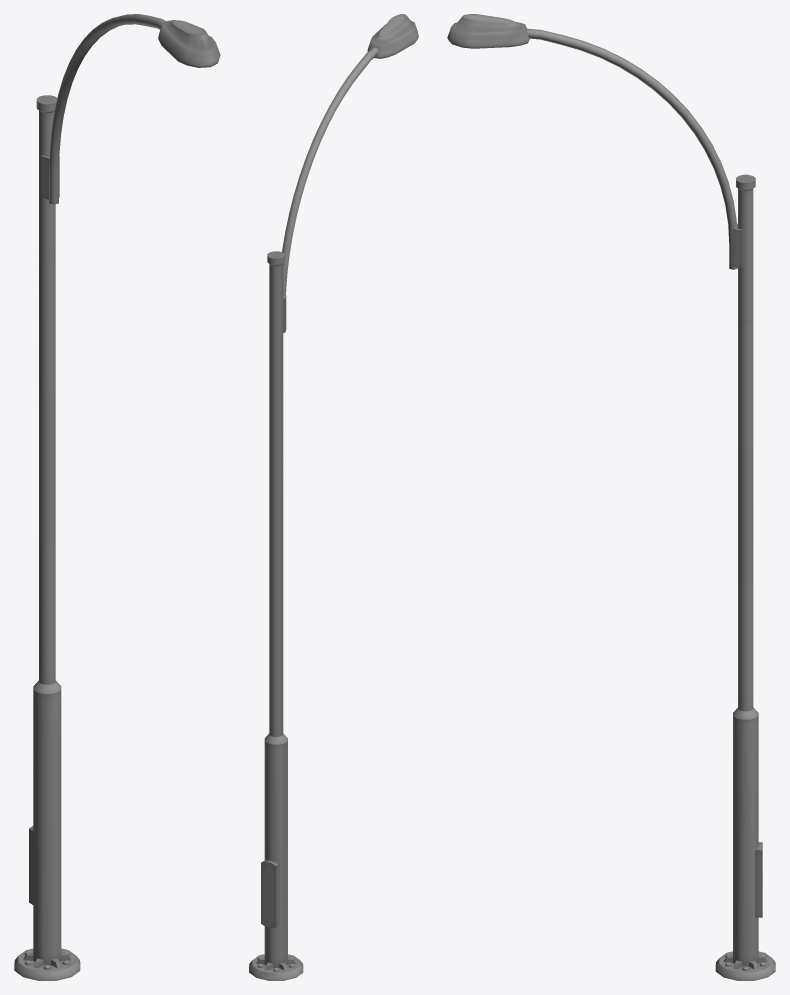
File: Lighting_Pole.fbx
3 renders of one model, left to right at view 1: azimuth 30°, elevation 25°; view 2: azimuth 150°, elevation 25°; view 3: azimuth 270°, elevation 25°, orthographic. The views are drawn at different scales.
Parts seen in each view (by area): view 1: Lighting_Pole_LOD0; view 2: Lighting_Pole_LOD0; view 3: Lighting_Pole_LOD0.
Part boxes in pixels (left/top/right/bottom): Lighting_Pole_LOD0: left=14, top=14, right=220, bottom=980; Lighting_Pole_LOD0: left=249, top=14, right=418, bottom=980; Lighting_Pole_LOD0: left=447, top=14, right=775, bottom=980.
Size of what is drawn, in the model's own units: 46.17 by 809 by 253.
